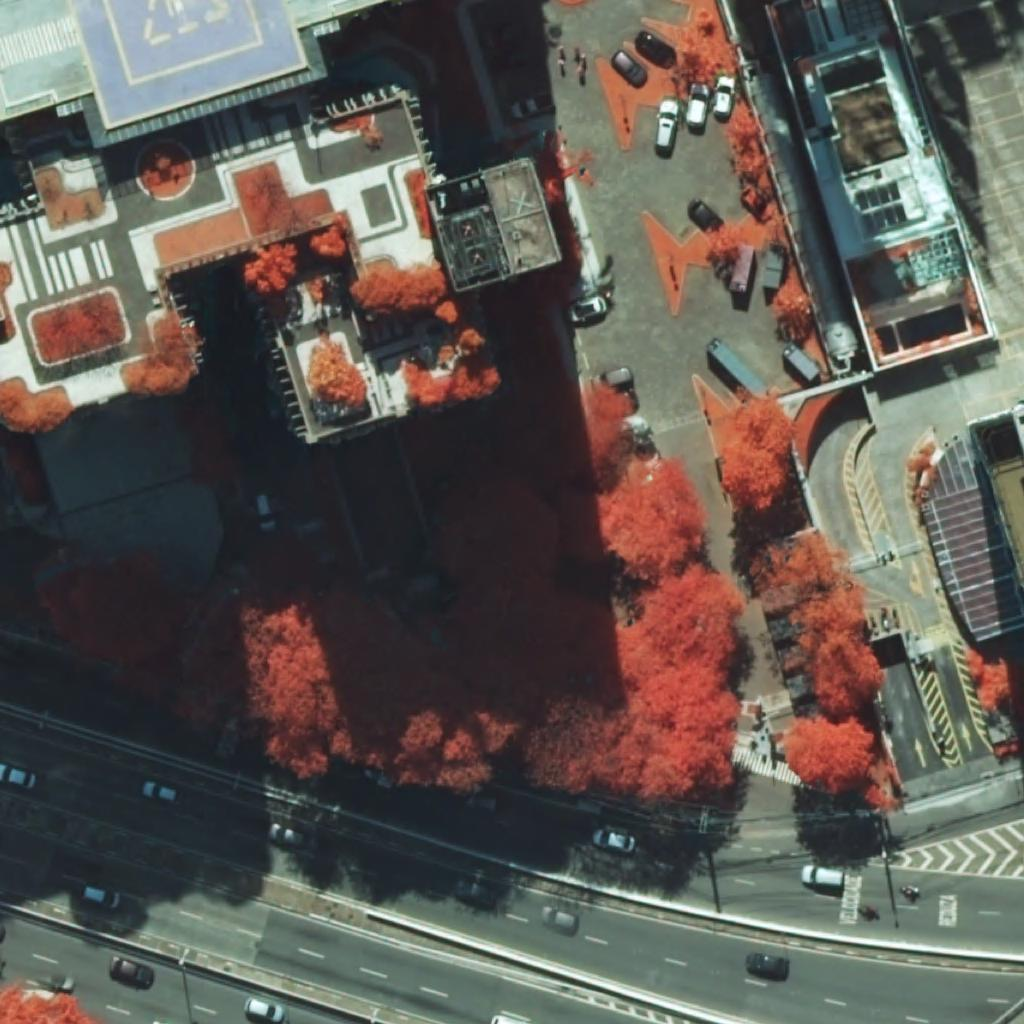pool: (876, 303, 969, 357)
